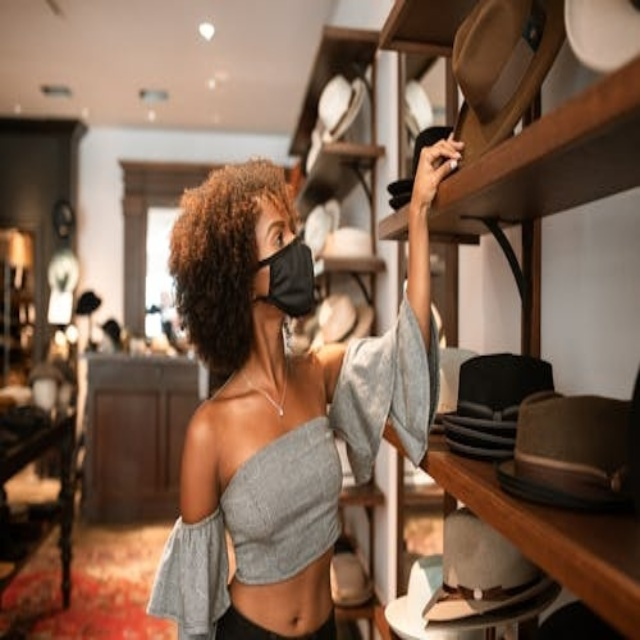Mascara: (249, 236, 315, 317)
Sin_gafas: (253, 211, 297, 252)
Sin_guantes: (407, 127, 467, 217)
